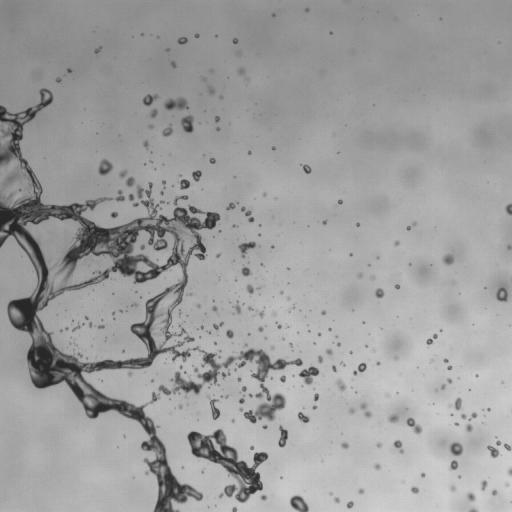droplet: (298, 365, 320, 385), (289, 494, 309, 511), (163, 97, 189, 110), (98, 158, 113, 175), (180, 114, 193, 133), (176, 174, 191, 189), (447, 397, 463, 410), (142, 94, 159, 106), (449, 442, 463, 456), (297, 411, 310, 426), (391, 439, 404, 454), (334, 377, 347, 391), (231, 299, 241, 315), (496, 287, 507, 301), (442, 253, 454, 265), (162, 123, 173, 136), (241, 264, 252, 276), (212, 321, 223, 332), (28, 95, 39, 106), (152, 98, 163, 109), (5, 102, 16, 113), (186, 105, 197, 116), (173, 108, 184, 119), (155, 118, 166, 129), (172, 122, 183, 133), (138, 149, 149, 160), (7, 157, 18, 168), (198, 161, 209, 172), (164, 189, 175, 200), (40, 194, 51, 205), (109, 200, 120, 211), (136, 206, 147, 217), (230, 207, 241, 218), (81, 208, 92, 219), (101, 218, 112, 229), (198, 227, 209, 238), (28, 276, 39, 287), (382, 283, 393, 294), (22, 287, 33, 298), (221, 303, 232, 314), (218, 309, 229, 320), (262, 314, 273, 325), (319, 316, 330, 327), (264, 324, 275, 335), (284, 328, 295, 339), (19, 330, 30, 341), (318, 337, 329, 348), (231, 344, 242, 355), (19, 359, 30, 370), (247, 359, 258, 370), (286, 363, 297, 374), (336, 367, 347, 378), (340, 368, 351, 379), (248, 379, 259, 390), (200, 381, 211, 392), (303, 384, 314, 395), (247, 399, 258, 410), (460, 402, 471, 413), (106, 408, 117, 419), (129, 418, 140, 429), (267, 419, 278, 430), (201, 425, 212, 436), (454, 432, 465, 443), (146, 449, 157, 460), (200, 457, 211, 468), (212, 462, 223, 473), (255, 463, 266, 474), (175, 473, 186, 484), (227, 474, 238, 485), (456, 486, 467, 497), (226, 495, 237, 506), (387, 413, 399, 423), (448, 459, 458, 471), (374, 288, 384, 298), (192, 170, 201, 181), (149, 108, 158, 118), (118, 168, 127, 178), (466, 492, 475, 502), (504, 203, 511, 215), (207, 76, 216, 85), (178, 108, 187, 117), (142, 130, 151, 139), (17, 138, 26, 147), (108, 168, 117, 177), (21, 176, 30, 185), (10, 180, 19, 189), (128, 185, 137, 194), (122, 186, 131, 195), (150, 191, 159, 200), (178, 199, 187, 208), (188, 254, 197, 263), (362, 267, 371, 276), (242, 275, 251, 284), (202, 301, 211, 310), (253, 316, 262, 325), (66, 390, 75, 399), (142, 407, 151, 416), (397, 416, 406, 425), (154, 428, 163, 437), (141, 432, 150, 441), (170, 467, 179, 476), (148, 473, 157, 482), (192, 481, 201, 490), (472, 486, 481, 495), (149, 494, 158, 503), (169, 498, 178, 507), (207, 85, 215, 95), (257, 324, 267, 332), (480, 480, 487, 491), (226, 202, 235, 210), (325, 348, 333, 357), (177, 37, 187, 44), (142, 139, 149, 149), (503, 443, 511, 451), (373, 462, 381, 470), (449, 484, 457, 492), (226, 329, 233, 338), (410, 486, 419, 493), (94, 46, 102, 53), (110, 211, 118, 218), (275, 321, 282, 329), (279, 374, 286, 382), (347, 407, 355, 414), (341, 442, 349, 449), (0, 302, 5, 313), (313, 392, 319, 401), (346, 501, 353, 508), (186, 33, 193, 40), (231, 70, 238, 77), (200, 86, 207, 93), (170, 93, 177, 100), (34, 96, 41, 103), (145, 104, 152, 111), (42, 105, 49, 112), (150, 117, 157, 124), (191, 120, 198, 127), (27, 160, 34, 167), (92, 162, 99, 169), (31, 166, 38, 173), (186, 174, 193, 181), (180, 188, 187, 195), (2, 189, 9, 196), (88, 193, 95, 200), (63, 199, 70, 206), (166, 211, 173, 218), (6, 234, 13, 241), (245, 247, 252, 254), (441, 248, 448, 255), (452, 256, 459, 263), (437, 259, 444, 266), (446, 263, 453, 270), (362, 272, 369, 279), (284, 300, 291, 307), (240, 305, 247, 312), (263, 308, 270, 315), (170, 310, 177, 317), (257, 318, 264, 325), (219, 325, 226, 332), (250, 326, 257, 333), (320, 327, 327, 334), (208, 334, 215, 341), (186, 341, 193, 348), (252, 343, 259, 350), (330, 344, 337, 351), (176, 345, 183, 352), (205, 346, 212, 353), (263, 347, 270, 354), (21, 348, 28, 355), (232, 350, 239, 357), (20, 351, 27, 358), (321, 352, 328, 359), (213, 356, 220, 363), (268, 356, 275, 363), (313, 361, 320, 368), (228, 362, 235, 369), (301, 362, 308, 369), (295, 365, 302, 372), (267, 368, 274, 375), (446, 370, 453, 377), (230, 371, 237, 378), (252, 378, 259, 385), (343, 378, 350, 385), (262, 379, 269, 386), (59, 380, 66, 387), (47, 384, 54, 391), (331, 384, 338, 391), (268, 389, 275, 396), (284, 399, 291, 406), (366, 404, 373, 411), (273, 408, 280, 415), (356, 408, 363, 415), (387, 408, 394, 415), (205, 409, 212, 416), (453, 409, 460, 416), (97, 411, 104, 418), (260, 416, 267, 423), (367, 416, 374, 423), (295, 418, 302, 425), (460, 418, 467, 425), (389, 421, 396, 428), (420, 424, 427, 431), (274, 431, 281, 438), (341, 435, 348, 442), (225, 439, 232, 446), (184, 443, 191, 450), (497, 445, 504, 452), (254, 446, 261, 453), (449, 453, 456, 460), (453, 454, 460, 461), (166, 459, 173, 466), (246, 460, 253, 467), (500, 467, 507, 474), (452, 468, 459, 475), (258, 475, 265, 482), (453, 478, 460, 485), (485, 484, 492, 491), (254, 489, 261, 496), (289, 489, 296, 496), (296, 489, 303, 496), (186, 495, 193, 502), (303, 496, 310, 503), (340, 498, 347, 505), (467, 500, 474, 507), (130, 301, 138, 307), (170, 61, 176, 68), (214, 116, 220, 123), (205, 329, 212, 335), (459, 413, 466, 419), (260, 494, 267, 500), (333, 497, 340, 503), (318, 355, 323, 363), (232, 38, 238, 44), (55, 77, 61, 83), (209, 157, 215, 163), (215, 252, 221, 258), (446, 377, 452, 383), (440, 383, 446, 389), (376, 442, 382, 448), (358, 488, 364, 494), (491, 489, 497, 495), (147, 124, 154, 129), (332, 365, 337, 372), (262, 191, 267, 197), (322, 219, 327, 225), (394, 240, 399, 246), (140, 244, 145, 250), (357, 272, 362, 278), (394, 284, 400, 289), (271, 310, 276, 316), (242, 342, 247, 348), (393, 355, 399, 360), (339, 361, 345, 366), (446, 365, 452, 370), (230, 417, 235, 423), (504, 481, 509, 487), (507, 293, 511, 300), (507, 475, 511, 482), (208, 507, 215, 511), (289, 507, 296, 511), (307, 507, 314, 511), (347, 507, 354, 511), (194, 33, 199, 38), (337, 199, 342, 204), (260, 262, 265, 267), (370, 275, 375, 280), (278, 290, 283, 295), (196, 303, 201, 308), (321, 310, 326, 315), (270, 345, 275, 350), (385, 392, 390, 397), (262, 424, 267, 429), (249, 445, 254, 450), (232, 506, 237, 511), (178, 32, 183, 37), (174, 59, 179, 64), (167, 64, 172, 69), (245, 71, 250, 76), (66, 72, 71, 77), (238, 75, 243, 80), (45, 84, 50, 89), (149, 90, 154, 95), (214, 90, 219, 95), (140, 92, 145, 97), (51, 98, 56, 103), (46, 103, 51, 108), (34, 112, 39, 117), (155, 113, 160, 118), (209, 116, 214, 121), (216, 121, 221, 126), (22, 123, 27, 128), (162, 123, 167, 128), (157, 131, 162, 136), (185, 131, 190, 136), (167, 134, 172, 139), (138, 139, 143, 144), (147, 139, 152, 144), (147, 144, 152, 149), (21, 153, 26, 158), (214, 156, 219, 161), (107, 157, 112, 162), (123, 174, 128, 179), (198, 175, 203, 180), (175, 182, 180, 187), (99, 192, 104, 197), (105, 192, 110, 197), (132, 192, 137, 197), (257, 192, 262, 197), (266, 192, 271, 197), (123, 193, 128, 198), (159, 195, 164, 200), (133, 196, 138, 201), (169, 197, 174, 202), (77, 199, 82, 204), (103, 199, 108, 204), (505, 199, 510, 204), (117, 200, 122, 205), (190, 201, 195, 206), (138, 202, 143, 207), (194, 203, 199, 208), (94, 204, 99, 209), (170, 204, 175, 209), (235, 204, 240, 209), (110, 207, 115, 212), (209, 207, 214, 212), (228, 208, 233, 213), (156, 209, 161, 214), (502, 210, 507, 215), (218, 212, 223, 217), (253, 217, 258, 222), (211, 226, 216, 231), (256, 227, 261, 232), (393, 235, 398, 240), (390, 237, 395, 242), (244, 238, 249, 243), (200, 239, 205, 244), (396, 244, 401, 249), (16, 245, 21, 250), (236, 248, 241, 253), (20, 250, 25, 255), (23, 254, 28, 259), (26, 259, 31, 264), (245, 263, 250, 268), (185, 265, 190, 270), (237, 265, 242, 270), (248, 266, 253, 271), (185, 269, 190, 274), (186, 276, 191, 281), (251, 283, 256, 288), (496, 283, 501, 288), (183, 285, 188, 290), (382, 288, 387, 293), (252, 289, 257, 294), (370, 289, 375, 294), (244, 290, 249, 295), (282, 291, 287, 296), (491, 293, 496, 298), (181, 294, 186, 299), (374, 296, 379, 301), (377, 296, 382, 301), (238, 297, 243, 302), (4, 299, 9, 304), (198, 299, 203, 304), (231, 300, 236, 305), (499, 300, 504, 305), (213, 301, 218, 306), (176, 303, 181, 308), (320, 305, 325, 310), (192, 306, 197, 311), (257, 306, 262, 311), (216, 307, 221, 312), (231, 307, 236, 312), (316, 308, 321, 313), (210, 310, 215, 315), (248, 310, 253, 315), (234, 313, 239, 318), (3, 314, 8, 319), (254, 314, 259, 319), (280, 322, 285, 327), (167, 326, 172, 331), (210, 327, 215, 332), (262, 327, 267, 332), (175, 328, 180, 333), (330, 329, 335, 334), (232, 331, 237, 336), (436, 331, 441, 336), (193, 335, 198, 340), (223, 335, 228, 340), (314, 335, 319, 340), (230, 336, 235, 341), (334, 337, 339, 342), (283, 339, 288, 344), (243, 346, 248, 351), (284, 356, 289, 361), (443, 362, 448, 367), (335, 364, 340, 369), (252, 368, 257, 373), (229, 369, 234, 374), (216, 373, 221, 378), (284, 376, 289, 381), (299, 376, 304, 381), (451, 377, 456, 382), (442, 379, 447, 384), (239, 380, 244, 385), (203, 381, 208, 386), (29, 382, 34, 387), (445, 382, 450, 387), (303, 383, 308, 388), (435, 383, 440, 388), (345, 386, 350, 391), (178, 387, 183, 392), (257, 387, 262, 392), (245, 388, 250, 393), (314, 388, 319, 393), (437, 388, 442, 393), (221, 390, 226, 395), (159, 391, 164, 396), (168, 392, 173, 397), (237, 393, 242, 398), (309, 393, 314, 398), (214, 394, 219, 399), (243, 395, 248, 400), (358, 398, 363, 403), (450, 398, 455, 403), (313, 400, 318, 405), (213, 401, 218, 406), (460, 401, 465, 406), (236, 402, 241, 407), (181, 403, 186, 408), (344, 404, 349, 409), (450, 406, 455, 411), (243, 407, 248, 412), (302, 410, 307, 415), (476, 411, 481, 416), (465, 412, 470, 417), (363, 416, 368, 421), (90, 417, 95, 422), (470, 417, 475, 422), (245, 418, 250, 423), (414, 419, 419, 424), (152, 420, 157, 425), (304, 421, 309, 426), (194, 427, 199, 432), (185, 428, 190, 433), (419, 430, 424, 435), (464, 430, 469, 435), (286, 432, 291, 437), (393, 435, 398, 440), (285, 437, 290, 442), (377, 437, 382, 442), (453, 437, 458, 442), (389, 438, 394, 443), (137, 439, 142, 444), (346, 439, 351, 444), (458, 439, 463, 444), (371, 440, 376, 445), (336, 443, 341, 448), (400, 443, 405, 448), (492, 443, 497, 448), (340, 447, 345, 452), (344, 447, 349, 452), (375, 447, 380, 452), (461, 449, 466, 454), (485, 449, 490, 454), (191, 454, 196, 459), (495, 455, 500, 460), (489, 456, 494, 461), (377, 459, 382, 464), (144, 465, 149, 470), (380, 465, 385, 470), (254, 467, 259, 472), (370, 467, 375, 472), (375, 469, 380, 474), (190, 482, 195, 487), (413, 482, 418, 487), (477, 482, 482, 487), (261, 483, 266, 488), (358, 483, 363, 488), (406, 484, 411, 489), (417, 485, 422, 490), (219, 487, 224, 492), (353, 487, 358, 492), (232, 489, 237, 494), (363, 489, 368, 494), (417, 489, 422, 494), (446, 489, 451, 494), (496, 489, 501, 494), (452, 490, 457, 495), (201, 491, 206, 496), (409, 491, 414, 496), (333, 492, 338, 497), (222, 493, 227, 498), (492, 494, 497, 499), (201, 495, 206, 500), (328, 495, 333, 500), (260, 499, 265, 504), (209, 504, 214, 509), (351, 504, 356, 509), (370, 348, 376, 352), (0, 230, 3, 237), (304, 8, 309, 12), (67, 68, 71, 73), (202, 76, 206, 81), (216, 126, 220, 131), (271, 146, 276, 150), (507, 244, 511, 249), (84, 315, 89, 319), (285, 323, 289, 328), (317, 332, 321, 337), (289, 342, 293, 347), (336, 342, 341, 346), (429, 358, 433, 363), (443, 358, 448, 362), (375, 361, 380, 365), (150, 378, 154, 383), (178, 404, 182, 409), (312, 405, 317, 409), (454, 422, 459, 426), (421, 472, 425, 477), (232, 224, 238, 227), (219, 95, 223, 99), (247, 150, 251, 154), (270, 245, 274, 249), (349, 252, 353, 256), (375, 255, 379, 259), (286, 296, 290, 300), (119, 309, 123, 313), (327, 327, 331, 331), (263, 336, 267, 340), (213, 341, 217, 345), (349, 350, 353, 354), (457, 475, 461, 479), (165, 48, 170, 51), (356, 222, 359, 227), (200, 324, 203, 329), (508, 240, 511, 245), (508, 248, 511, 253), (508, 441, 511, 446), (227, 508, 232, 511), (272, 13, 275, 17), (149, 160, 153, 163), (257, 233, 261, 236), (408, 262, 411, 266), (286, 267, 290, 270), (234, 277, 237, 281), (65, 326, 68, 330), (246, 332, 250, 335), (281, 337, 285, 340), (313, 341, 316, 345), (364, 344, 368, 347), (122, 349, 125, 353), (475, 373, 478, 377), (270, 376, 273, 380), (435, 388, 438, 392), (196, 411, 199, 415), (400, 480, 404, 483), (218, 276, 220, 281), (0, 120, 2, 125), (0, 131, 2, 136), (0, 183, 2, 188), (439, 17, 442, 20), (329, 31, 332, 34), (140, 33, 143, 36), (156, 35, 159, 38), (214, 34, 217, 37), (171, 184, 174, 187), (18, 188, 21, 191), (258, 224, 261, 227), (218, 229, 221, 232), (483, 286, 486, 289), (134, 290, 137, 293), (241, 302, 244, 305), (100, 318, 103, 321), (362, 321, 365, 324), (59, 329, 62, 332), (307, 329, 310, 332), (439, 329, 442, 332), (335, 335, 338, 338), (312, 387, 315, 390), (354, 390, 357, 393), (487, 408, 490, 411), (450, 413, 453, 416), (181, 466, 184, 469), (280, 476, 283, 479), (329, 492, 332, 495), (304, 4, 307, 7), (305, 11, 308, 14), (274, 12, 277, 15), (268, 14, 271, 17), (139, 29, 142, 32), (331, 29, 334, 32), (196, 30, 199, 33), (192, 31, 195, 34), (215, 31, 218, 34), (326, 31, 329, 34), (329, 34, 332, 37), (139, 35, 142, 38), (198, 35, 201, 38), (235, 35, 238, 38), (215, 36, 218, 39), (194, 37, 197, 40), (229, 40, 232, 43), (237, 40, 240, 43), (180, 43, 183, 46), (232, 43, 235, 46), (95, 45, 98, 48), (164, 45, 167, 48), (91, 48, 94, 51), (100, 48, 103, 51), (167, 50, 170, 53), (97, 51, 100, 54), (92, 52, 95, 55), (169, 58, 172, 61), (66, 65, 69, 68), (69, 66, 72, 69), (173, 67, 176, 70), (64, 69, 67, 72), (59, 75, 62, 78), (54, 81, 57, 84), (186, 103, 189, 106), (23, 107, 26, 110), (215, 112, 218, 115), (212, 127, 215, 130), (215, 130, 218, 133), (274, 145, 277, 148), (142, 146, 145, 149), (268, 146, 271, 149), (335, 148, 338, 151), (250, 149, 253, 152), (270, 149, 273, 152), (244, 150, 247, 153), (338, 152, 341, 155), (210, 154, 213, 157), (247, 154, 250, 157), (150, 157, 153, 160), (146, 161, 149, 164), (140, 162, 143, 165), (208, 162, 211, 165), (153, 164, 156, 167), (309, 165, 312, 168), (193, 168, 196, 171), (151, 169, 154, 172), (301, 169, 304, 172), (310, 169, 313, 172), (233, 172, 236, 175), (307, 172, 310, 175), (180, 176, 183, 179), (162, 177, 165, 180), (38, 179, 41, 182), (149, 179, 152, 182), (40, 183, 43, 186), (164, 183, 167, 186), (162, 189, 165, 192), (149, 194, 152, 197), (337, 196, 340, 199), (113, 199, 116, 202), (334, 200, 337, 203), (233, 201, 236, 204), (158, 203, 161, 206), (225, 203, 228, 206), (338, 203, 341, 206), (322, 217, 325, 220), (319, 220, 322, 223), (325, 220, 328, 223), (353, 220, 356, 223), (249, 221, 252, 224), (229, 222, 232, 225), (234, 222, 237, 225), (359, 222, 362, 225), (408, 222, 411, 225), (260, 224, 263, 227), (353, 224, 356, 227), (403, 225, 406, 228), (233, 226, 236, 229), (356, 226, 359, 229), (410, 226, 413, 229), (408, 229, 411, 232), (219, 231, 222, 234), (260, 232, 263, 235), (269, 242, 272, 245), (273, 243, 276, 246), (503, 245, 506, 248), (268, 247, 271, 250), (272, 247, 275, 250), (216, 250, 219, 253), (346, 252, 349, 255), (352, 252, 355, 255), (218, 255, 221, 258), (350, 255, 353, 258), (379, 256, 382, 259), (200, 259, 203, 262), (258, 259, 261, 262), (376, 259, 379, 262), (368, 260, 371, 263), (410, 260, 413, 263), (429, 260, 432, 263), (262, 261, 265, 264), (405, 261, 408, 264), (364, 263, 367, 266), (283, 264, 286, 267), (287, 264, 290, 267), (410, 264, 413, 267), (259, 265, 262, 268), (367, 266, 370, 269), (285, 269, 288, 272), (216, 272, 219, 275), (215, 276, 218, 279), (219, 276, 222, 279), (231, 276, 234, 279), (286, 278, 289, 281), (232, 280, 235, 283), (287, 283, 290, 286), (482, 283, 485, 286), (399, 285, 402, 288), (280, 287, 283, 290), (393, 287, 396, 290), (396, 288, 399, 291), (484, 288, 487, 291), (276, 289, 279, 292), (271, 292, 274, 295), (211, 302, 214, 305), (238, 302, 241, 305), (228, 303, 231, 306), (294, 303, 297, 306), (264, 304, 267, 307), (289, 304, 292, 307), (251, 305, 254, 308), (294, 307, 297, 310), (290, 308, 293, 311), (186, 311, 189, 314), (180, 313, 183, 316), (322, 314, 325, 317), (186, 316, 189, 319), (363, 318, 366, 321), (272, 319, 275, 322), (277, 321, 280, 324), (287, 322, 290, 325), (362, 323, 365, 326), (328, 324, 331, 327), (380, 324, 383, 327), (197, 325, 200, 328), (183, 326, 186, 329), (280, 326, 283, 329), (307, 326, 310, 329), (202, 327, 205, 330), (286, 327, 289, 330), (331, 327, 334, 330), (441, 327, 444, 330), (247, 329, 250, 332), (298, 329, 301, 332), (327, 330, 330, 333), (441, 330, 444, 333), (293, 331, 296, 334), (306, 331, 309, 334), (205, 332, 208, 335), (314, 332, 317, 335), (320, 332, 323, 335), (189, 334, 192, 337), (282, 334, 285, 337), (247, 335, 250, 338), (278, 336, 281, 339), (279, 339, 282, 342), (216, 340, 219, 343), (291, 340, 294, 343), (309, 341, 312, 344), (340, 342, 343, 345), (292, 343, 295, 346), (367, 343, 370, 346), (424, 343, 427, 346), (429, 343, 432, 346), (199, 346, 202, 349), (288, 346, 291, 349), (365, 347, 368, 350), (347, 348, 350, 351), (351, 348, 354, 351), (351, 352, 354, 355), (348, 353, 351, 356), (432, 355, 435, 358), (446, 356, 449, 359), (376, 358, 379, 361), (342, 359, 345, 362), (440, 359, 443, 362), (358, 360, 361, 363), (373, 360, 376, 363), (379, 360, 382, 363), (365, 363, 368, 366), (377, 364, 380, 367), (451, 366, 454, 369), (329, 367, 332, 370), (350, 369, 353, 372), (363, 369, 366, 372), (447, 369, 450, 372), (350, 372, 353, 375), (472, 372, 475, 375), (477, 372, 480, 375), (475, 376, 478, 379), (234, 378, 237, 381), (278, 380, 281, 383), (500, 383, 503, 386), (467, 385, 470, 388), (352, 387, 355, 390), (470, 387, 473, 390), (396, 388, 399, 391), (468, 390, 471, 393), (241, 391, 244, 394), (356, 391, 359, 394), (392, 391, 395, 394), (352, 392, 355, 395), (227, 395, 230, 398), (210, 396, 213, 399), (153, 400, 156, 403), (429, 400, 432, 403), (487, 404, 490, 407), (175, 405, 178, 408), (314, 408, 317, 411), (484, 409, 487, 412), (219, 410, 222, 413), (295, 411, 298, 414), (218, 414, 221, 417), (241, 415, 244, 418), (216, 417, 219, 420), (453, 424, 456, 427), (266, 426, 269, 429), (263, 428, 266, 431), (494, 432, 497, 435), (125, 434, 128, 437), (120, 435, 123, 438), (494, 438, 497, 441), (250, 442, 253, 445), (275, 442, 278, 445), (247, 444, 250, 447), (374, 445, 377, 448), (279, 446, 282, 449), (398, 452, 401, 455), (447, 462, 450, 465), (183, 465, 186, 468), (198, 468, 201, 471), (203, 469, 206, 472), (198, 471, 201, 474), (417, 473, 420, 476), (424, 473, 427, 476), (276, 475, 279, 478), (460, 475, 463, 478), (282, 476, 285, 479), (421, 476, 424, 479), (215, 495, 218, 498), (347, 498, 350, 501), (123, 434, 125, 438), (198, 122, 201, 124), (337, 151, 339, 154), (202, 154, 205, 156), (233, 176, 236, 178), (274, 197, 277, 199), (236, 202, 239, 204), (272, 215, 274, 218), (156, 258, 158, 261), (212, 299, 214, 302), (228, 301, 231, 303), (306, 324, 309, 326), (297, 331, 299, 334), (85, 357, 88, 359), (292, 374, 294, 377), (457, 376, 459, 379), (501, 381, 504, 383), (301, 384, 303, 387), (350, 386, 353, 388), (396, 391, 398, 394), (432, 402, 434, 405), (302, 406, 304, 409), (483, 414, 485, 417), (494, 436, 497, 438), (132, 476, 135, 478), (214, 504, 216, 507), (509, 482, 511, 485), (236, 509, 239, 511), (96, 132, 98, 134), (150, 151, 152, 153), (144, 163, 146, 165), (162, 163, 164, 165), (154, 168, 156, 170), (201, 188, 203, 190), (307, 225, 309, 227), (247, 261, 249, 263), (368, 264, 370, 266), (287, 282, 289, 284), (112, 292, 114, 294), (458, 292, 460, 294), (299, 309, 301, 311), (309, 309, 311, 311), (352, 309, 354, 311), (204, 312, 206, 314), (186, 314, 188, 316), (509, 324, 511, 326), (380, 327, 382, 329), (196, 328, 198, 330), (199, 336, 201, 338), (291, 349, 293, 351), (416, 366, 418, 368), (468, 389, 470, 391), (430, 264, 432, 265), (259, 293, 260, 295), (140, 296, 141, 298), (272, 296, 274, 297), (472, 324, 474, 325), (332, 342, 334, 343), (299, 351, 301, 352), (101, 380, 103, 381), (406, 408, 408, 409), (208, 505, 209, 507), (237, 239, 238, 240), (126, 310, 127, 311), (231, 342, 232, 343), (164, 362, 165, 363), (197, 419, 198, 420)
ligament: (206, 394, 221, 420), (406, 417, 422, 434), (465, 412, 477, 432), (278, 423, 287, 447), (360, 401, 372, 418), (237, 67, 250, 81), (353, 362, 366, 376), (88, 320, 105, 329), (238, 393, 245, 412), (426, 333, 437, 345), (71, 321, 84, 331), (300, 163, 311, 173), (406, 221, 417, 230), (160, 180, 166, 195), (287, 303, 296, 313), (212, 305, 219, 316), (467, 506, 479, 511), (220, 394, 230, 399), (506, 466, 511, 476), (239, 386, 246, 393), (69, 342, 77, 346), (237, 374, 241, 382), (112, 310, 115, 320), (186, 292, 195, 295), (178, 309, 181, 317), (201, 468, 205, 473), (104, 336, 107, 341), (71, 319, 73, 323), (186, 402, 188, 405), (340, 432, 343, 434), (232, 351, 235, 352), (482, 422, 485, 423), (510, 500, 511, 503)
